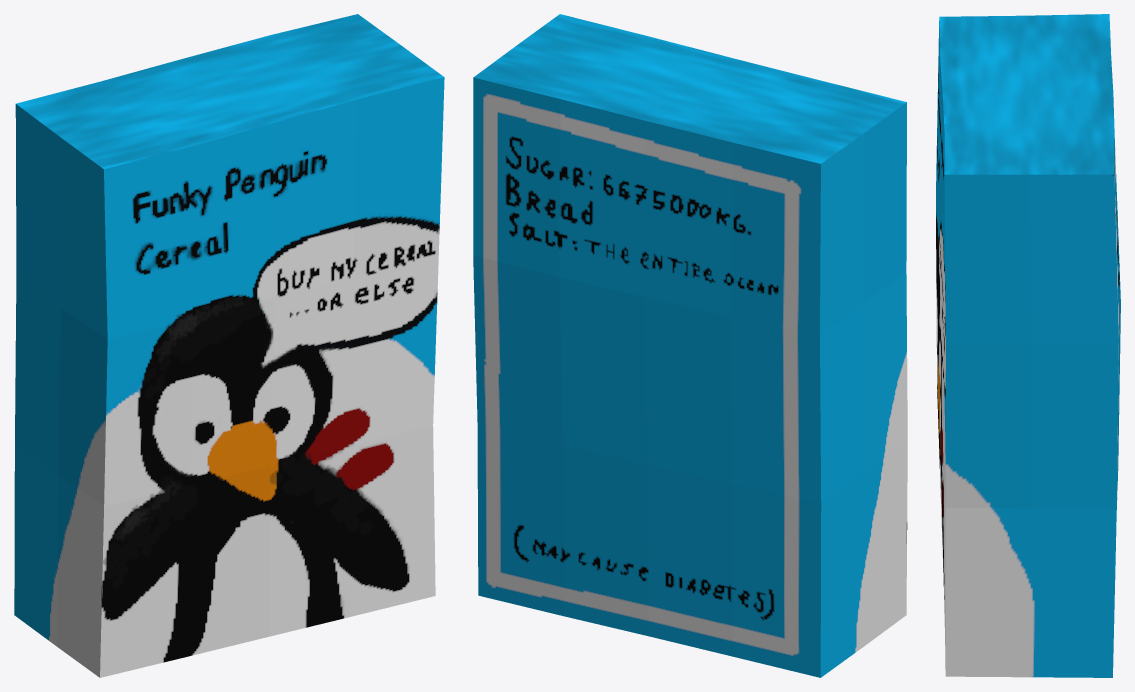
The model's file is funky_cereal_lodded (1).fbx.
3 views of the same model, side by side, from view 1: azimuth 30°, elevation 25°; view 2: azimuth 150°, elevation 25°; view 3: azimuth 270°, elevation 25° (orthographic). The views are drawn at different scales.
Parts seen in each view (by area): view 1: funky_cereal_LOD0; view 2: funky_cereal_LOD0; view 3: funky_cereal_LOD0.
Boxes of the visible parts, x1,y1,x2,y2 form: funky_cereal_LOD0: (14, 14, 444, 677); funky_cereal_LOD0: (473, 14, 907, 677); funky_cereal_LOD0: (936, 14, 1120, 677).
Size of what is drawn, in the model's own units: 54.93 by 78.45 by 25.99.
